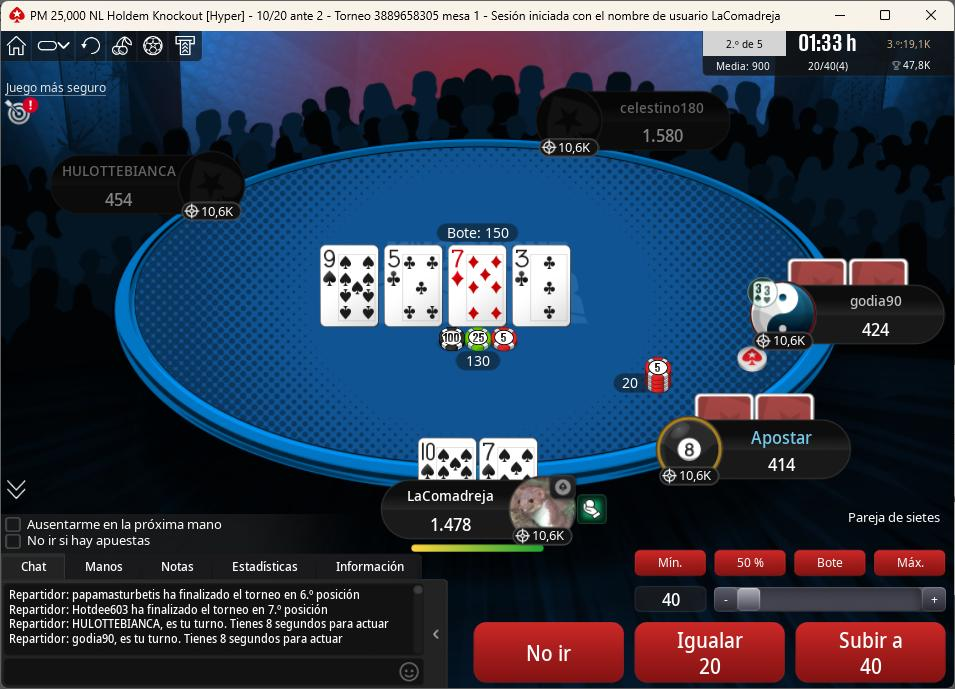ButtonCall: (629, 614, 784, 685)
ButtonFold: (472, 620, 631, 685)
ButtonMaxRaise: (871, 547, 946, 578)
ButtonMinRaise: (633, 547, 711, 580)
ButtonPotRaise: (793, 547, 867, 582)
ButtonRaise: (792, 618, 947, 684)
HiddenCards: (692, 393, 821, 423), (786, 259, 913, 286)
Player: (748, 283, 951, 351), (652, 421, 854, 489), (50, 151, 247, 215), (546, 92, 734, 158)
PlayerBet: (610, 353, 686, 400)
PlayerChips: (633, 125, 692, 144), (762, 454, 807, 476), (95, 191, 140, 211), (856, 321, 897, 342)
Pot: (433, 223, 520, 243)
PrincipalCards: (413, 438, 542, 484)
PrincipalCards1: (416, 435, 478, 483)
PrincipalCards2: (480, 437, 540, 485)
PrincipalPlayer: (385, 475, 587, 551)
PrincipalPlayerChips: (420, 517, 483, 537)
ShowedCards: (312, 242, 584, 334)
ShowedCards1: (316, 243, 381, 330)
ShowedCards2: (381, 242, 441, 328)
ShowedCards3: (446, 239, 510, 330)
ShowedCards4: (512, 244, 573, 330)
SmallBigBlind: (247, 3, 334, 25)
TablePot: (433, 324, 535, 381)
